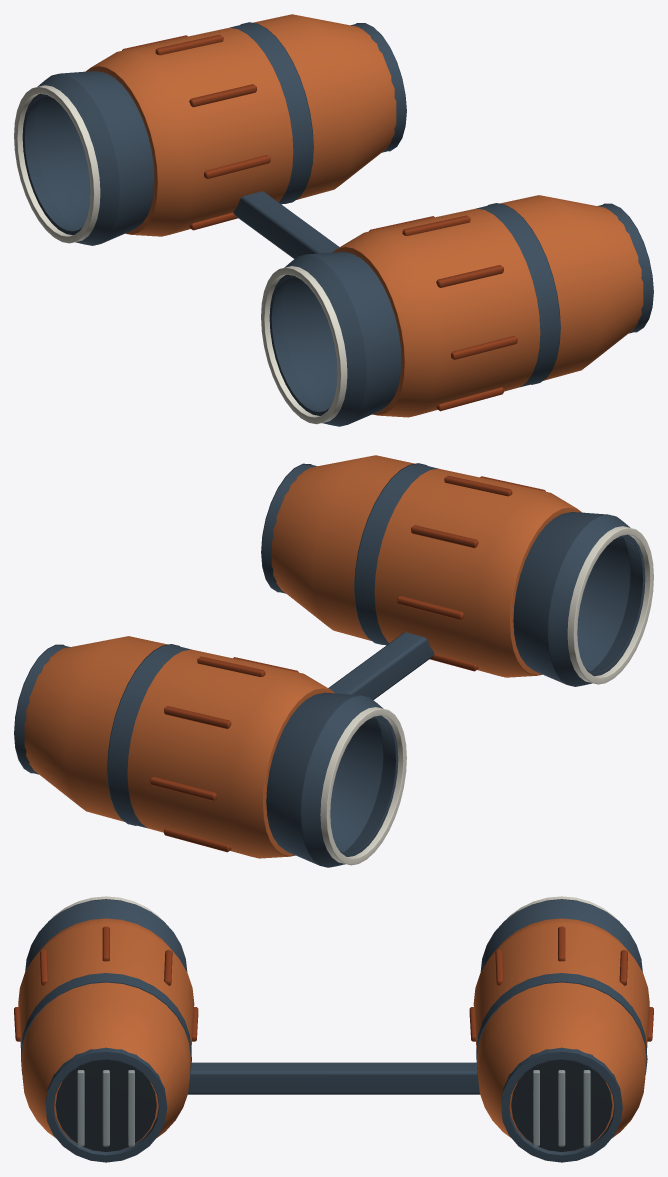
File: SM_SSTO_Engines.fbx
The picture shows the model from 3 angles, top to bottom: view 1: azimuth 30°, elevation 25°; view 2: azimuth 150°, elevation 25°; view 3: azimuth 270°, elevation 25°; orthographic projection. The views are drawn at different scales.
Visible parts, largest first — view 1: SM_SSTO_Engines; view 2: SM_SSTO_Engines; view 3: SM_SSTO_Engines.
Part boxes in pixels (x1,y1,x2,y2): SM_SSTO_Engines: [14, 14, 653, 426]; SM_SSTO_Engines: [14, 455, 653, 867]; SM_SSTO_Engines: [14, 896, 653, 1162].
Bounding box in the file's own units: 617 × 1141 × 329.
